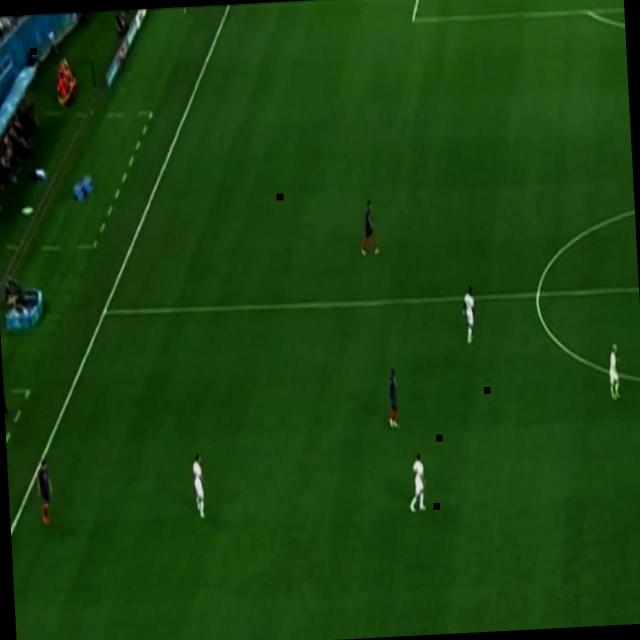player-white: (357, 196, 380, 260), (188, 450, 208, 522), (405, 452, 427, 514), (36, 457, 56, 525), (384, 367, 401, 433), (605, 341, 623, 403), (460, 286, 478, 346)
